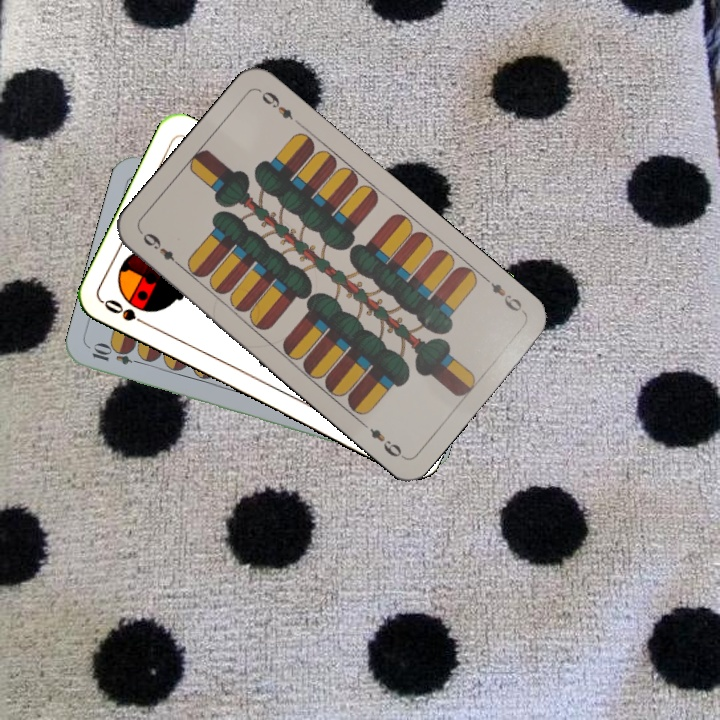E10: (88, 342, 147, 368)
E9: (479, 272, 528, 316), (138, 228, 186, 271)
SO: (100, 295, 155, 331)
